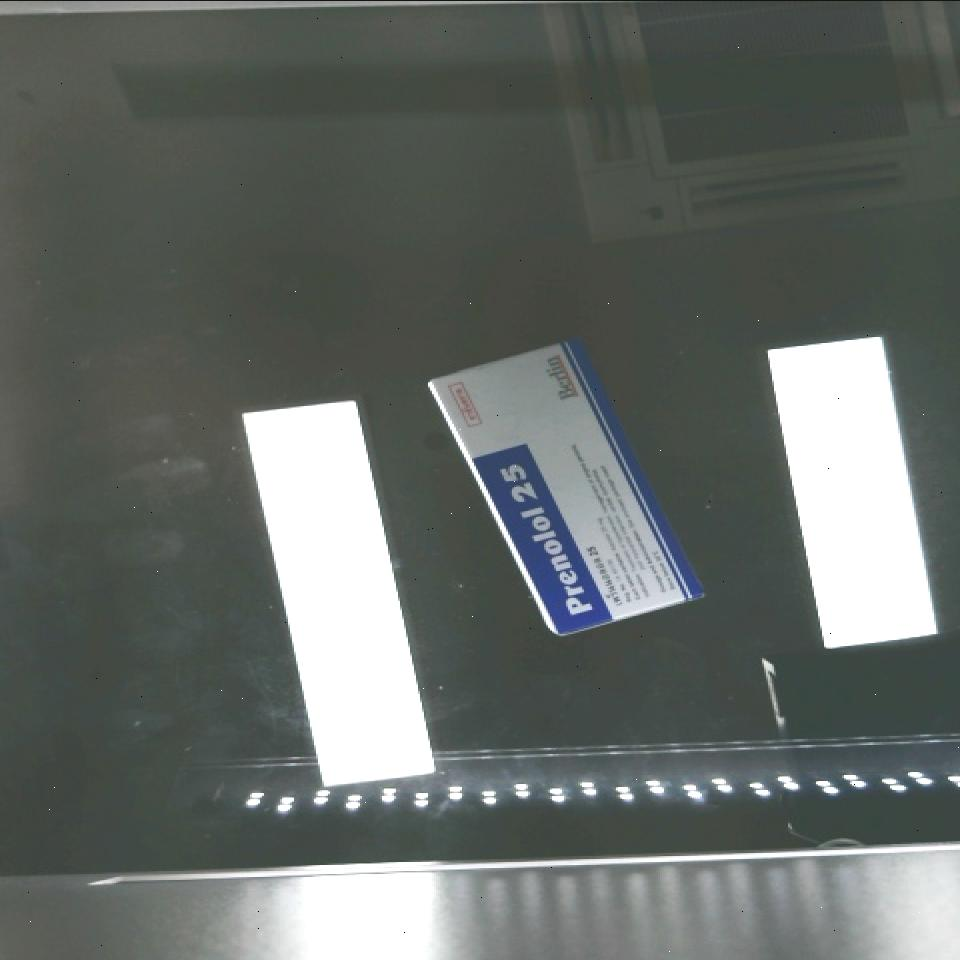medicine_box: (428, 319, 702, 664)
medicine_label_obb: (473, 435, 612, 643)
